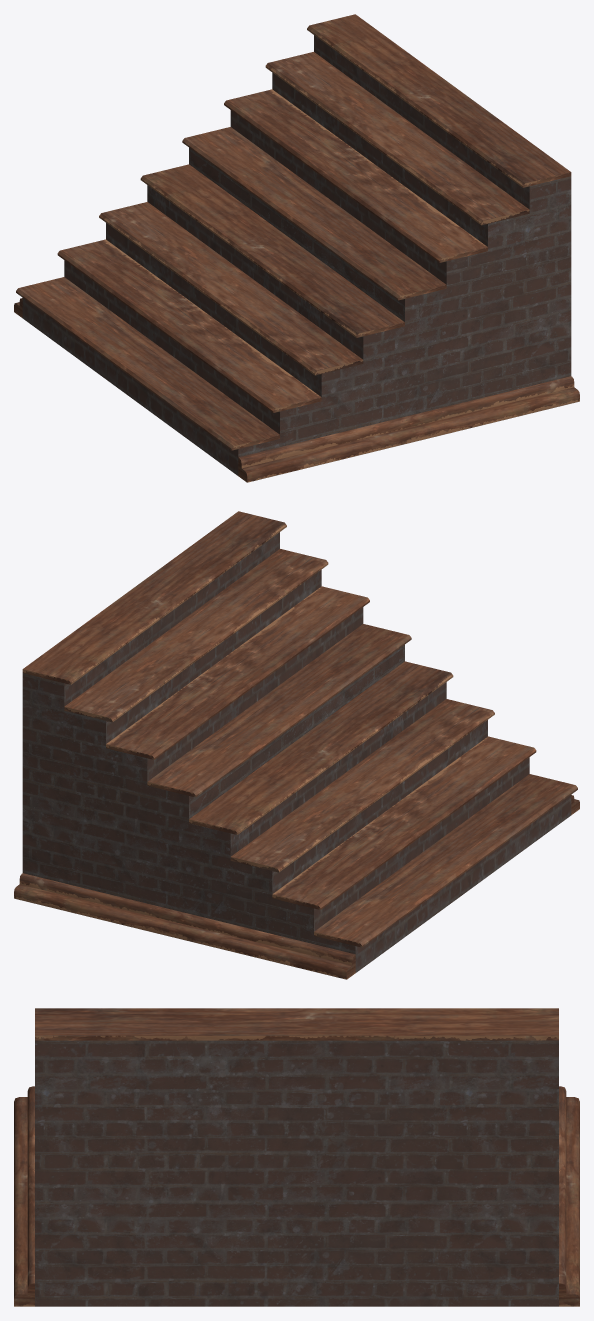
File: Kit_LadderEight.fbx
3 views of the same model, one above another, from view 1: azimuth 30°, elevation 25°; view 2: azimuth 150°, elevation 25°; view 3: azimuth 270°, elevation 25° (orthographic). The views are drawn at different scales.
Parts seen in each view (by area): view 1: Kit_LadderEight; view 2: Kit_LadderEight; view 3: Kit_LadderEight.
Boxes of the visible parts, x1=… form: Kit_LadderEight: x1=14, y1=14, x2=579, y2=482; Kit_LadderEight: x1=14, y1=511, x2=579, y2=979; Kit_LadderEight: x1=14, y1=1008, x2=579, y2=1306.
Bounding box in the file's own units: 88.59 × 55.61 × 105.
